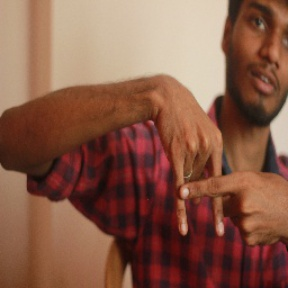H: (149, 136, 251, 244)
